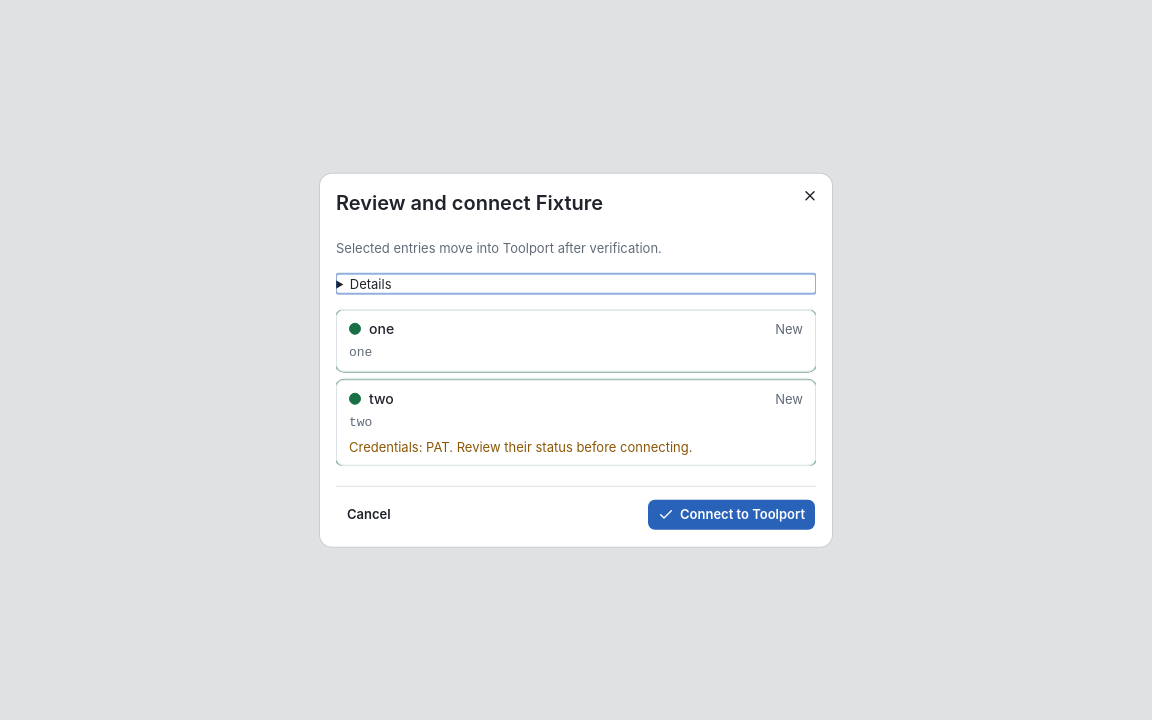
passes only reviewed definitions and keeps failed launch or credential errors open
The image size is (1152, 720).
expect the text "Credentials: PAT. Review their status before connecting." is shown: met, box 349,438 -> 692,454
Step 1. Click the button "two" → {"x": 576, "y": 422}, box 336,379 -> 816,465
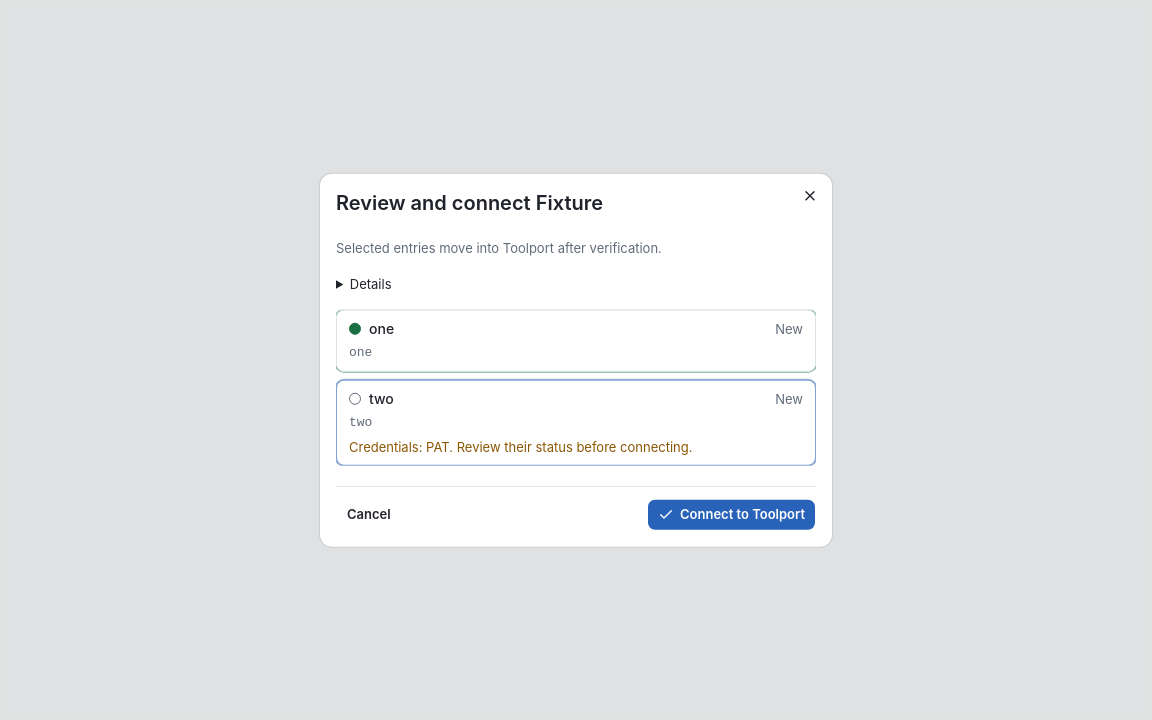
Step 2. Click the button "Connect to Toolport" → {"x": 732, "y": 514}, box 647,498 -> 816,530
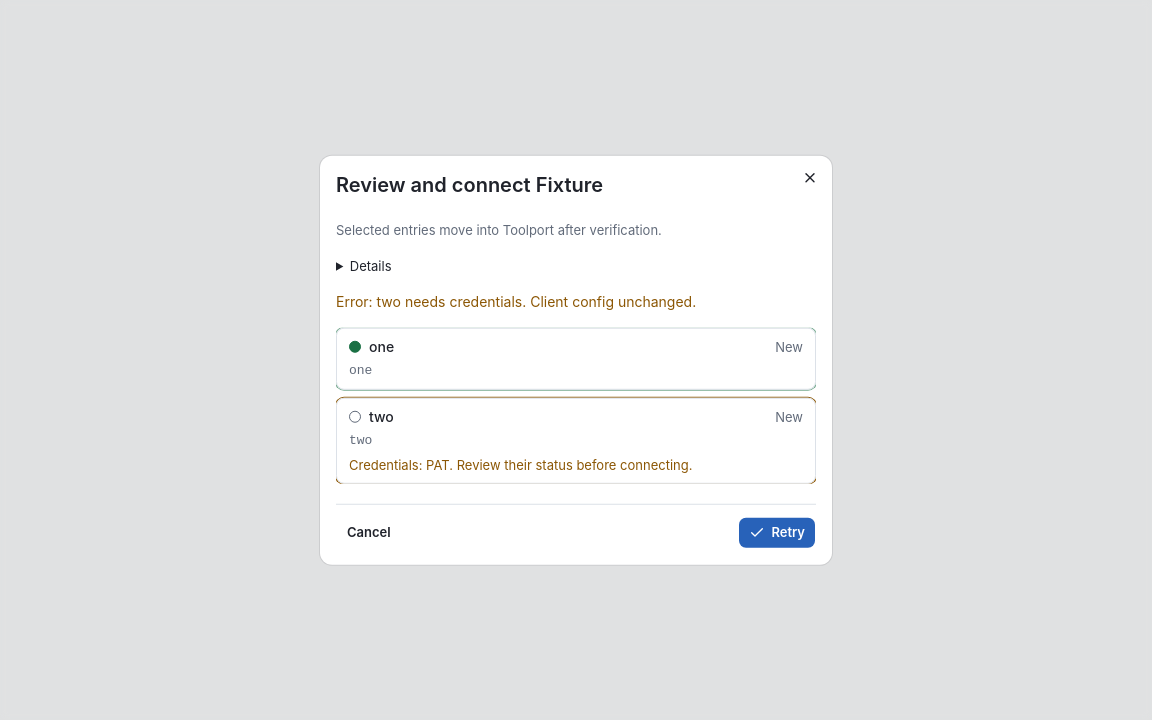
expect the message shows "Client config unchanged": met, box 336,292 -> 696,309
